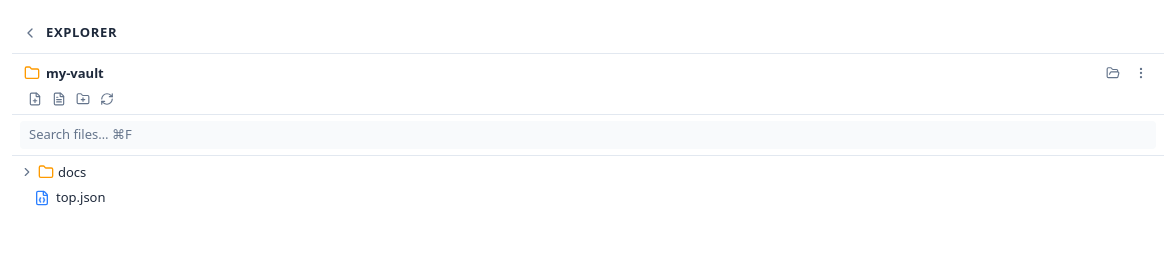
ExplorerPanel — ARIA tree semantics & keyboard nav (KB-033) › FS-2.3-62: ArrowRight on a collapsed folder expands it
Focus the element showing "docs top.json" at (81, 197), box [20,163,106,206]
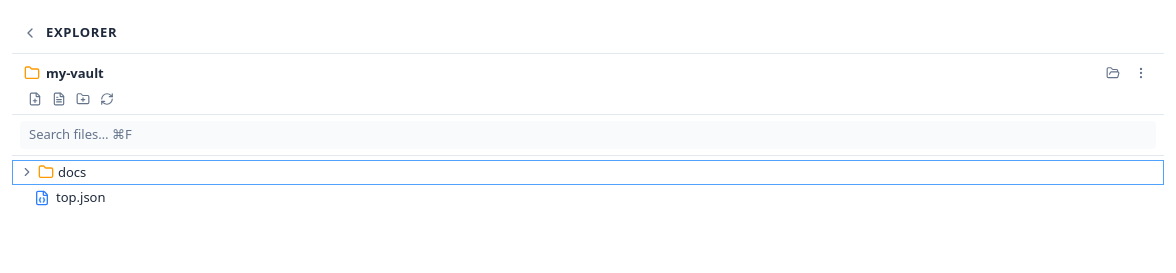
expect the text "inside.md" is not shown: met
Press ArrowRight in the element showing "docs top.json", box [12,156,1164,214]
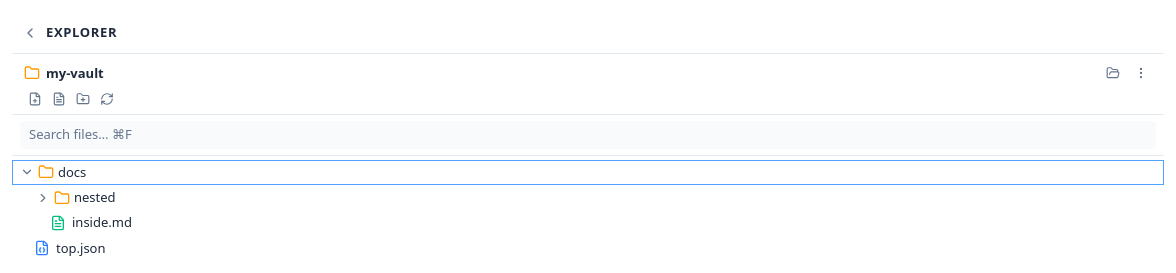
expect the text "inside.md" is shown: met, box [72,213,132,231]
